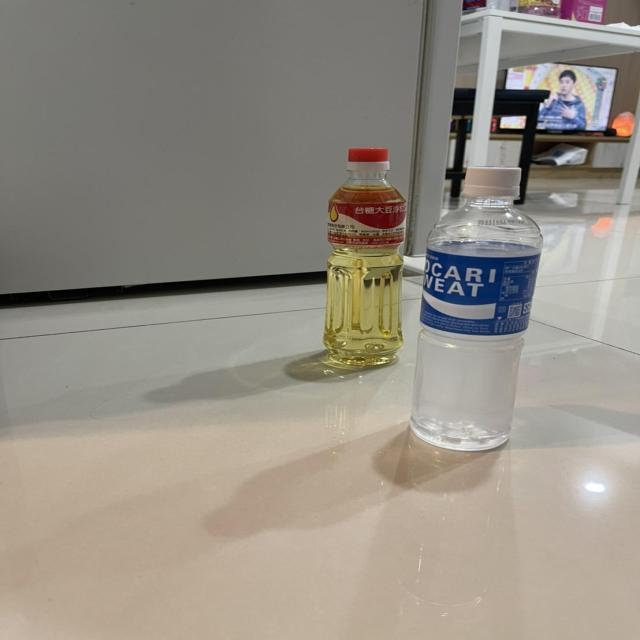bottle: (393, 158, 549, 459), (318, 140, 414, 378)
